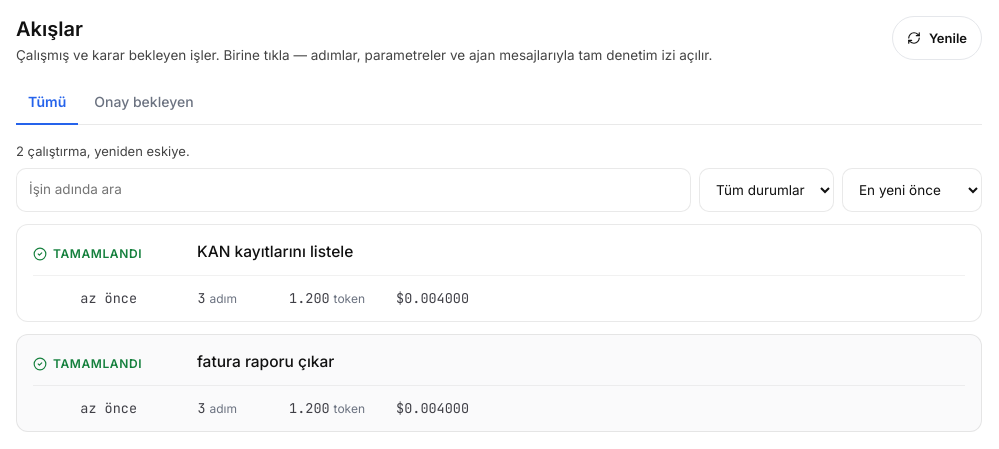
Test: typing_in_the_goal_filter_narrows_the_list_and_the_list_says_so
Expected: the text "KAN kayıtlarını listele" is shown, [197,242,353,261]
In the search field with placeholder "İşin adında ara": (354, 190) [16,168,691,212], type "fatura"
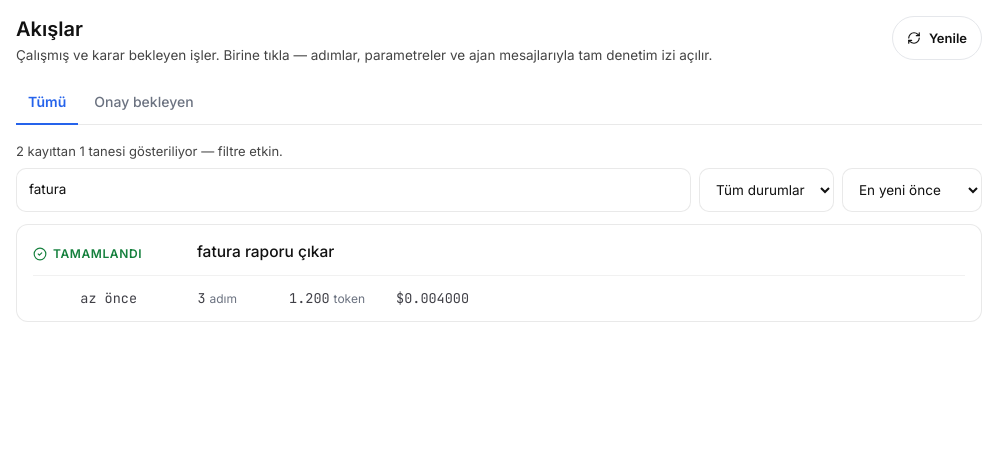
Now the number of list items is 1, box [16,224,982,322]
Now the button "KAN kayıtlarını listele" is gone
Now the text "2 kayıttan 1 tanesi gösteriliyor — filtre etkin." is shown, box [16,143,283,159]
